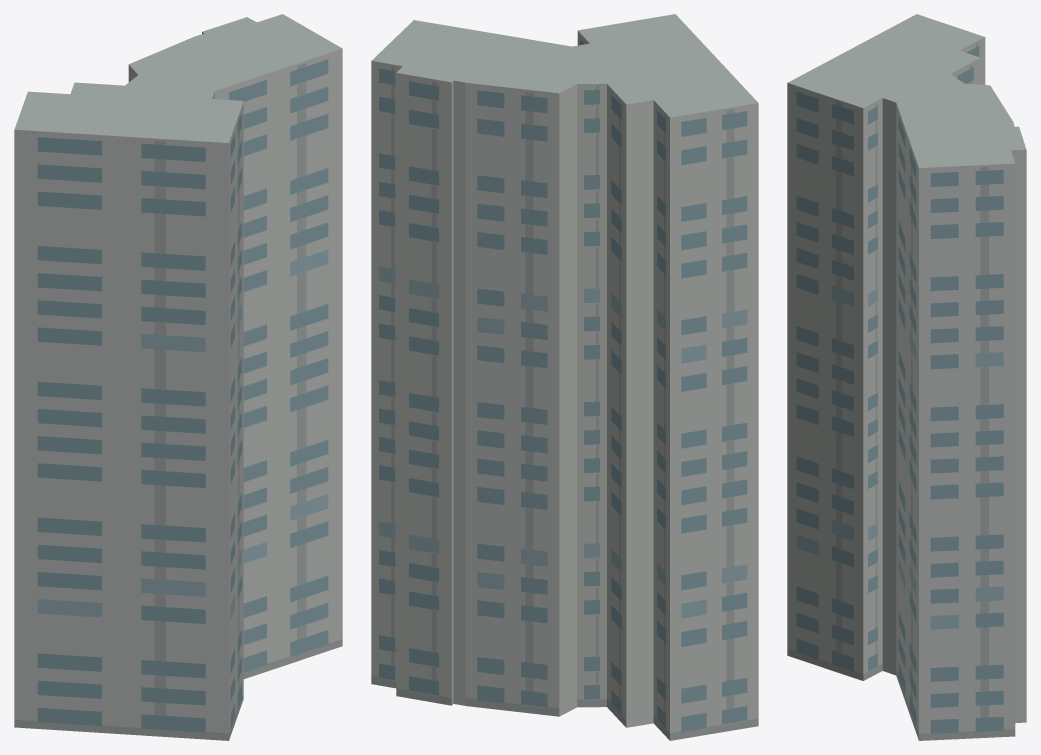
The model's file is residential-0b473aff-99f9-40c1-ba6c-ebed4bfd09bf.glb.
3 renders of one model, left to right at view 1: azimuth 30°, elevation 25°; view 2: azimuth 150°, elevation 25°; view 3: azimuth 270°, elevation 25°, orthographic. The views are drawn at different scales.
Visible parts, largest first — view 1: residential-0b473aff-99f9-40c1-ba6c-ebed4bfd09bf.tmp; view 2: residential-0b473aff-99f9-40c1-ba6c-ebed4bfd09bf.tmp; view 3: residential-0b473aff-99f9-40c1-ba6c-ebed4bfd09bf.tmp.
Boxes of the visible parts, x1,y1,x2,y2 form: residential-0b473aff-99f9-40c1-ba6c-ebed4bfd09bf.tmp: (14, 14, 342, 740); residential-0b473aff-99f9-40c1-ba6c-ebed4bfd09bf.tmp: (371, 14, 758, 740); residential-0b473aff-99f9-40c1-ba6c-ebed4bfd09bf.tmp: (787, 14, 1026, 740).
Size of the model in its own units: 38.7 by 67.1 by 25.38.
